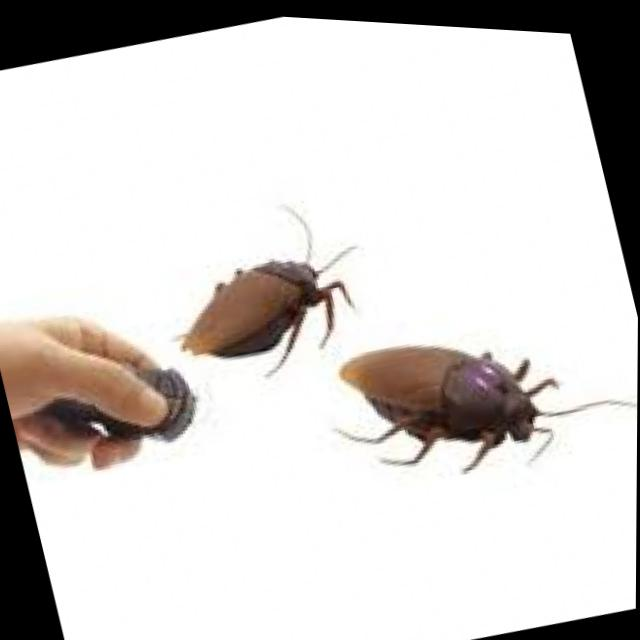Cockroach: (299, 272, 628, 525), (134, 185, 386, 408)
